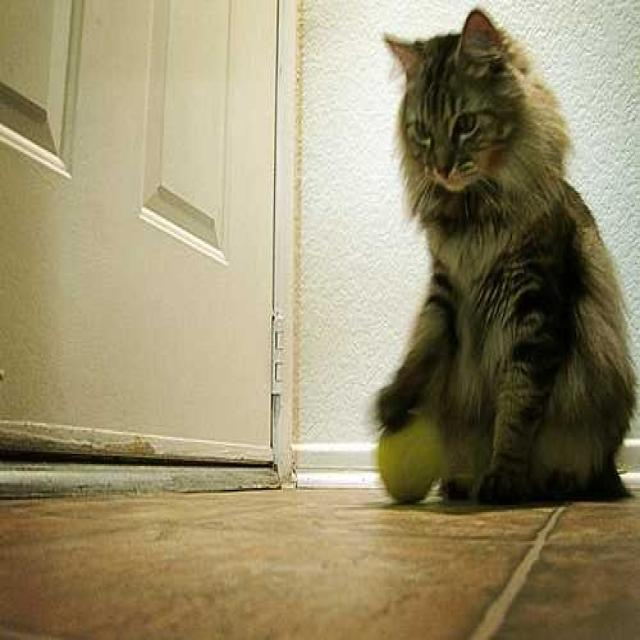Tennis_Ball: (382, 410, 440, 501)
